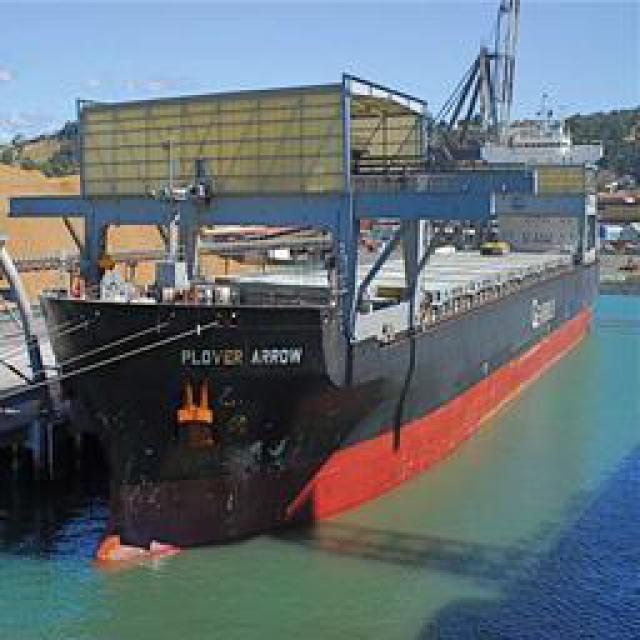Ship: (26, 65, 609, 573)
